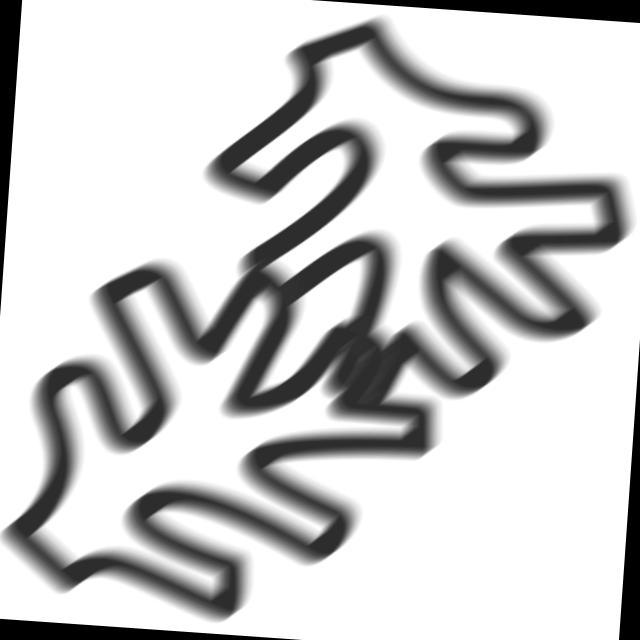coral: (179, 1, 640, 444), (1, 244, 451, 640)
